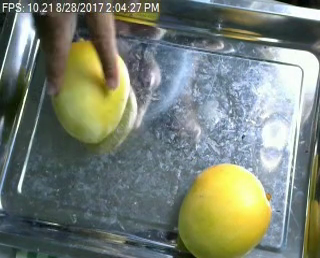Mango: (177, 158, 273, 256), (50, 44, 130, 143)
